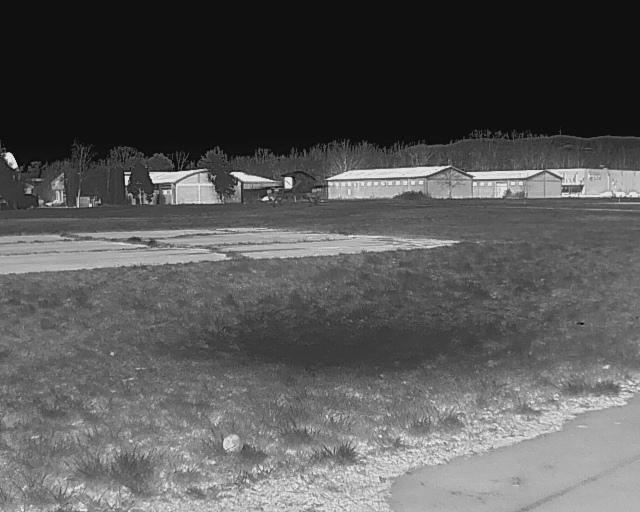drone: (245, 180, 323, 220)
